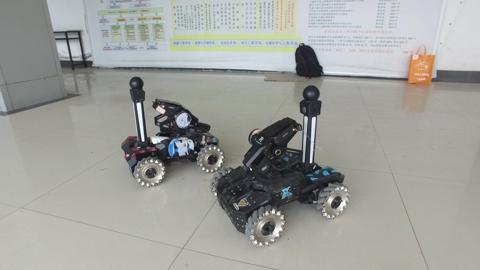chariot: (214, 86, 350, 253), (106, 73, 229, 192)
